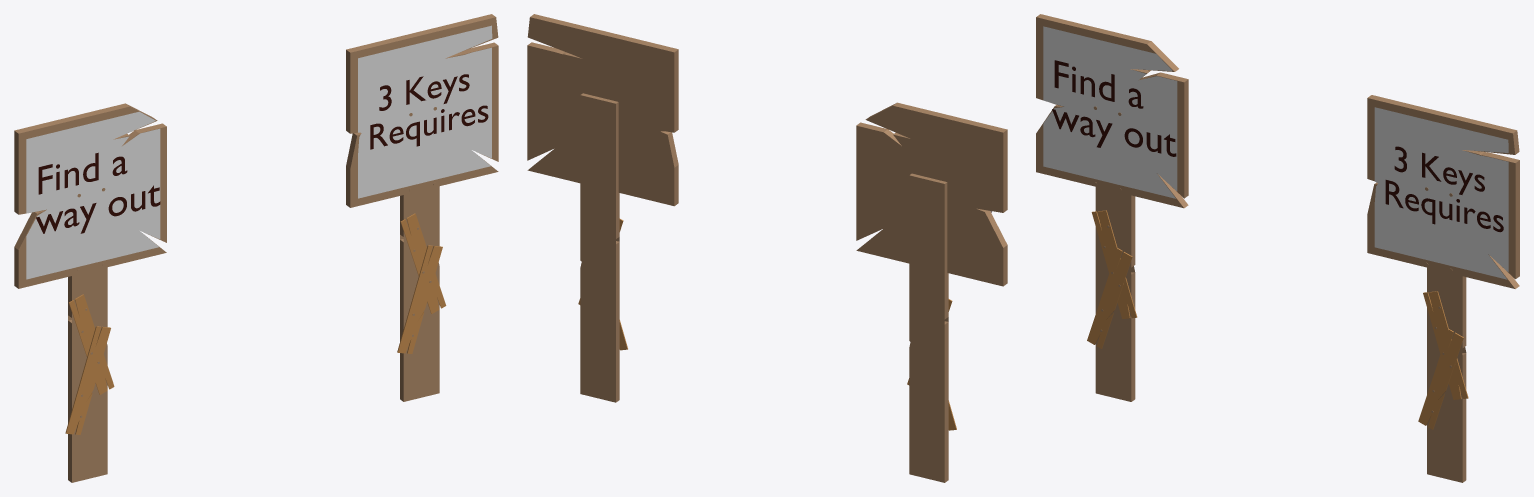
File: Sign.fbx
The picture shows the model from 3 angles, left to right: view 1: azimuth 30°, elevation 25°; view 2: azimuth 150°, elevation 25°; view 3: azimuth 330°, elevation 25°; orthographic projection.
Visible parts, largest first — view 1: Plane.006, Plane, Cube.002, Cube, Cube.003, Cube.001, Text, Text.001, Plane.004, Plane.002, Plane.001, Plane.005; view 2: Cube.002, Cube.001, Cube, Cube.003; view 3: Plane.006, Plane, Cube.002, Cube, Cube.003, Cube.001, Text, Text.001, Plane.002, Plane.004, Plane.001, Plane.005.
Part boxes in pixels (x1,y1,x2,y2): Plane.006: (358, 25, 492, 198); Plane: (26, 111, 160, 279); Cube.002: (346, 14, 498, 207); Cube: (68, 267, 107, 482); Cube.003: (400, 186, 439, 401); Cube.001: (14, 103, 166, 288); Text: (36, 152, 160, 233); Text.001: (370, 74, 488, 149); Plane.004: (397, 245, 442, 353); Plane.002: (65, 326, 110, 434); Plane.001: (69, 294, 114, 394); Plane.005: (400, 213, 446, 313); Cube.002: (527, 14, 678, 206); Cube.001: (856, 102, 1007, 286); Cube: (909, 173, 948, 482); Cube.003: (580, 93, 619, 402); Plane.006: (1374, 107, 1508, 279); Plane: (1043, 26, 1177, 198); Cube.002: (1367, 95, 1519, 288); Cube: (1095, 187, 1135, 401); Cube.003: (1427, 267, 1466, 482); Cube.001: (1036, 14, 1188, 208); Text: (1052, 60, 1176, 156); Text.001: (1385, 146, 1503, 232); Plane.002: (1087, 248, 1132, 348); Plane.004: (1418, 329, 1463, 429); Plane.001: (1091, 210, 1137, 318); Plane.005: (1423, 291, 1468, 399).
Bounding box in the file's own units: 647 × 471 × 17.77.
